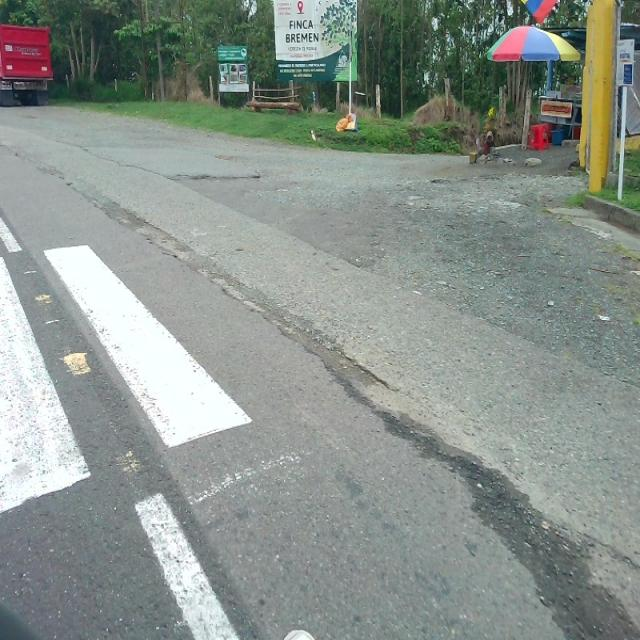DITCH: (2, 130, 638, 638)
